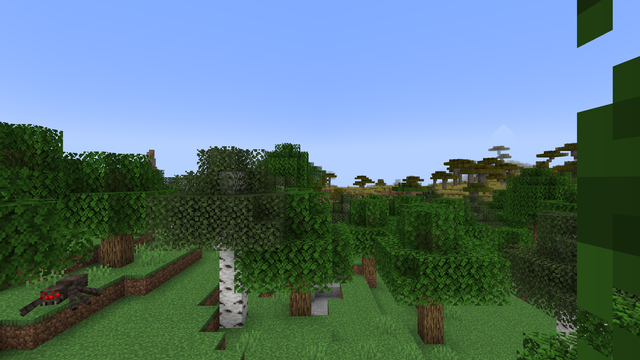araignees: (22, 273, 98, 314)
